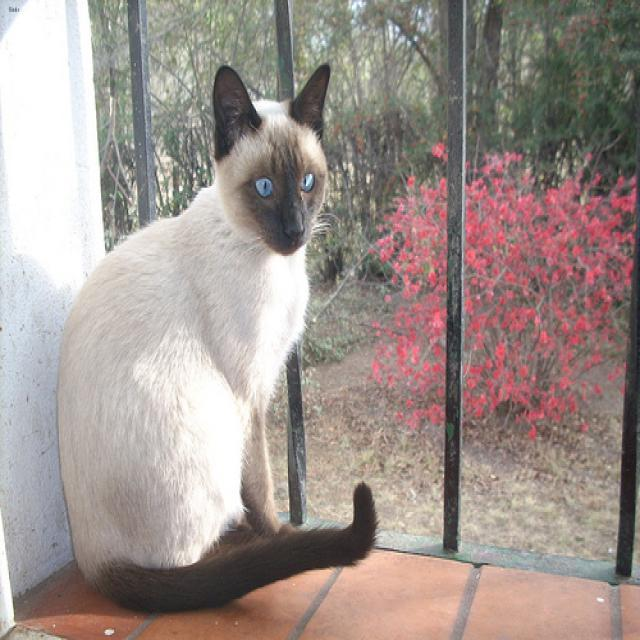Siamese: (210, 63, 328, 253)
